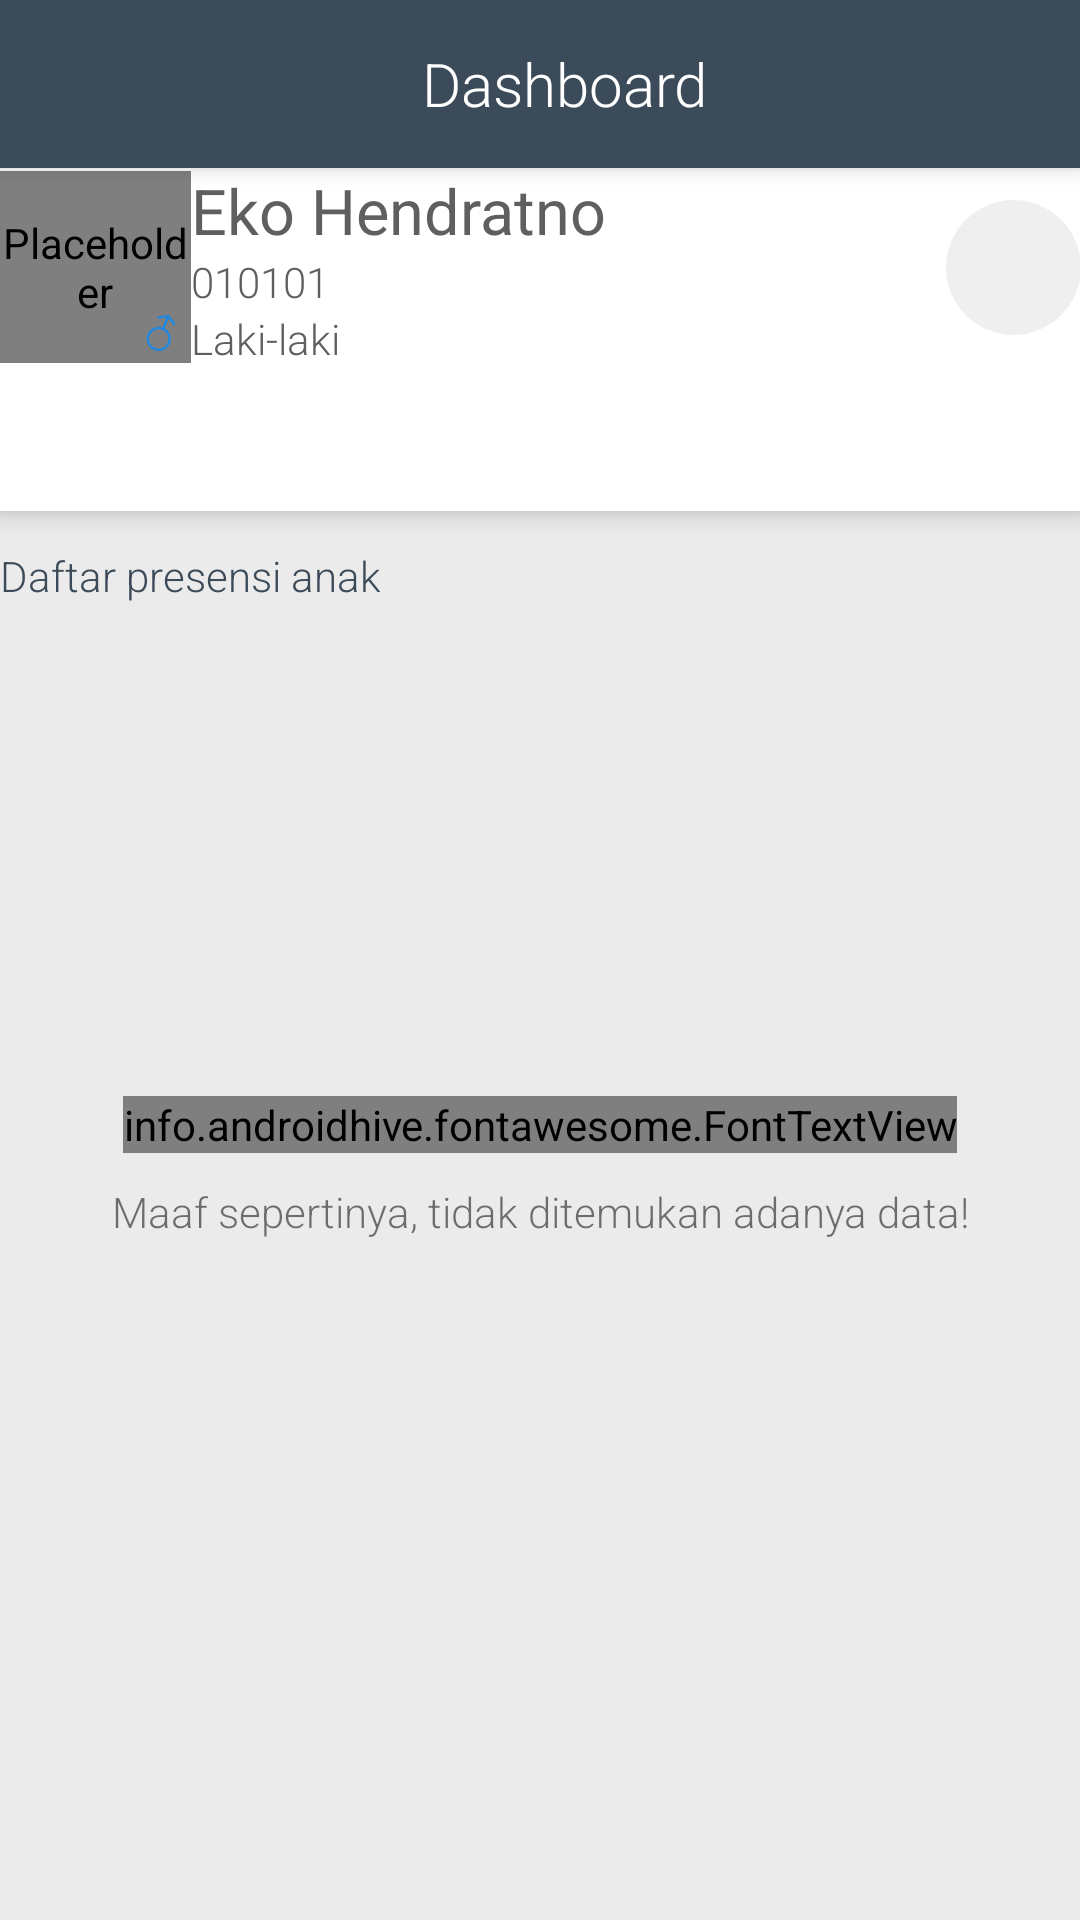

Point at icon controls on the screen. Image size 1080px×1920px, points as (x,y).
male: (160,333)
